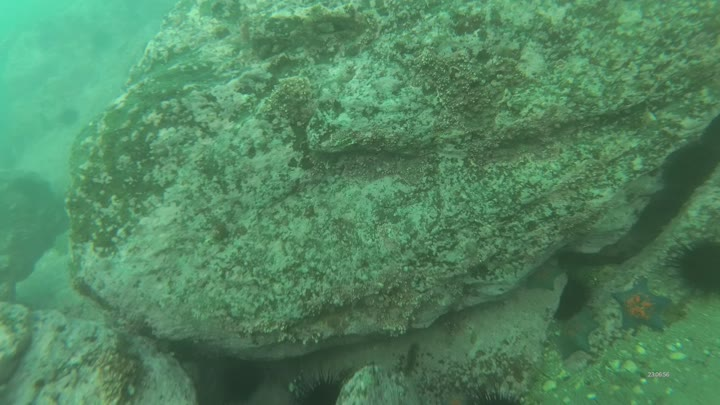echinus: (667, 231, 720, 301), (286, 370, 359, 405), (552, 273, 595, 322), (463, 384, 527, 405)
starfish: (612, 274, 670, 336), (553, 315, 602, 360)
